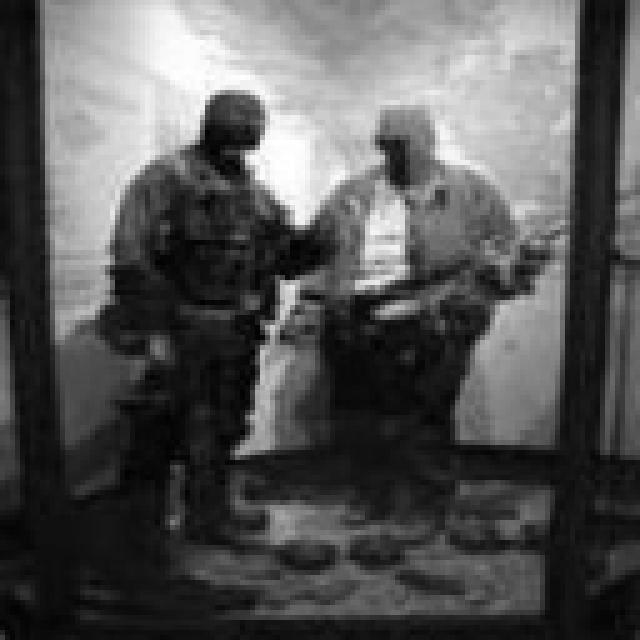Rifle: (341, 218, 570, 380), (132, 232, 277, 446)
